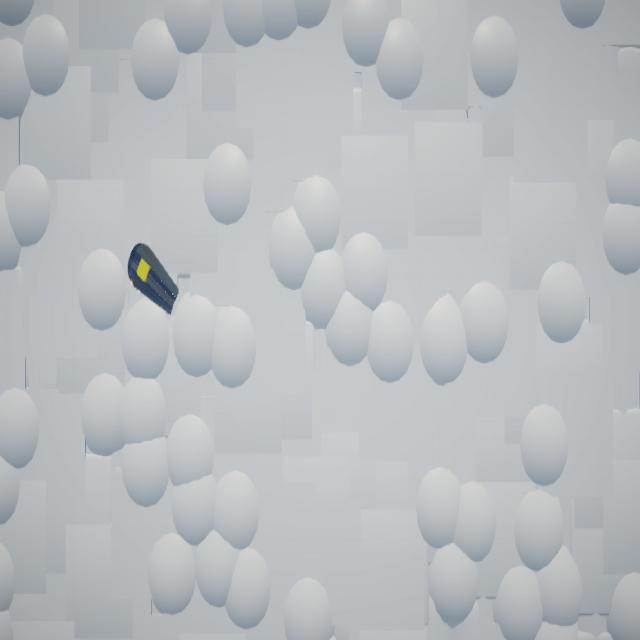handle_folk: (128, 244, 180, 316)
